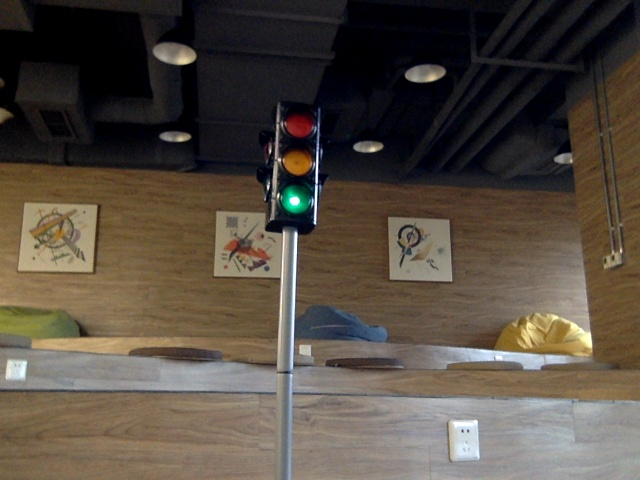green: (275, 109, 315, 219)
